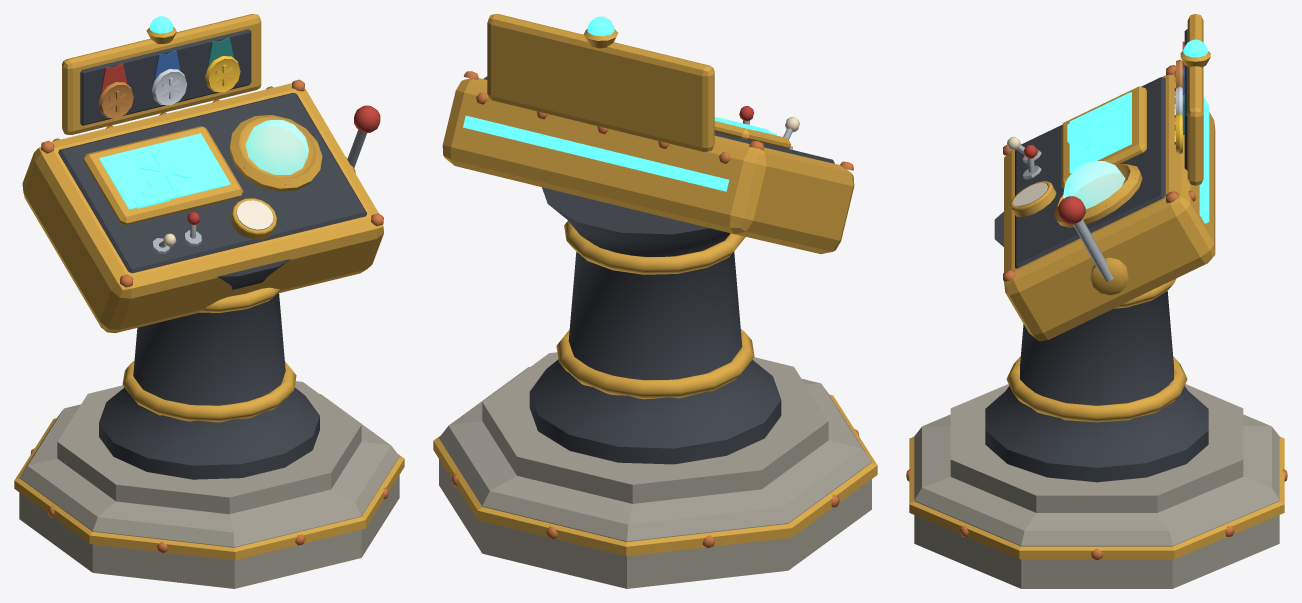
The model's file is prop_challenge_terminal.glb.
3 views of the same model, side by side, from view 1: azimuth 30°, elevation 25°; view 2: azimuth 150°, elevation 25°; view 3: azimuth 270°, elevation 25° (orthographic). The views are drawn at different scales.
Visible parts, largest first — view 1: Terminal; view 2: Terminal; view 3: Terminal.
Part boxes in pixels (x1,y1,x2,y2): Terminal: [14, 14, 404, 588]; Terminal: [433, 14, 877, 588]; Terminal: [906, 14, 1287, 588].
Size of the model in its own units: 1.2 by 1.63 by 1.2.
